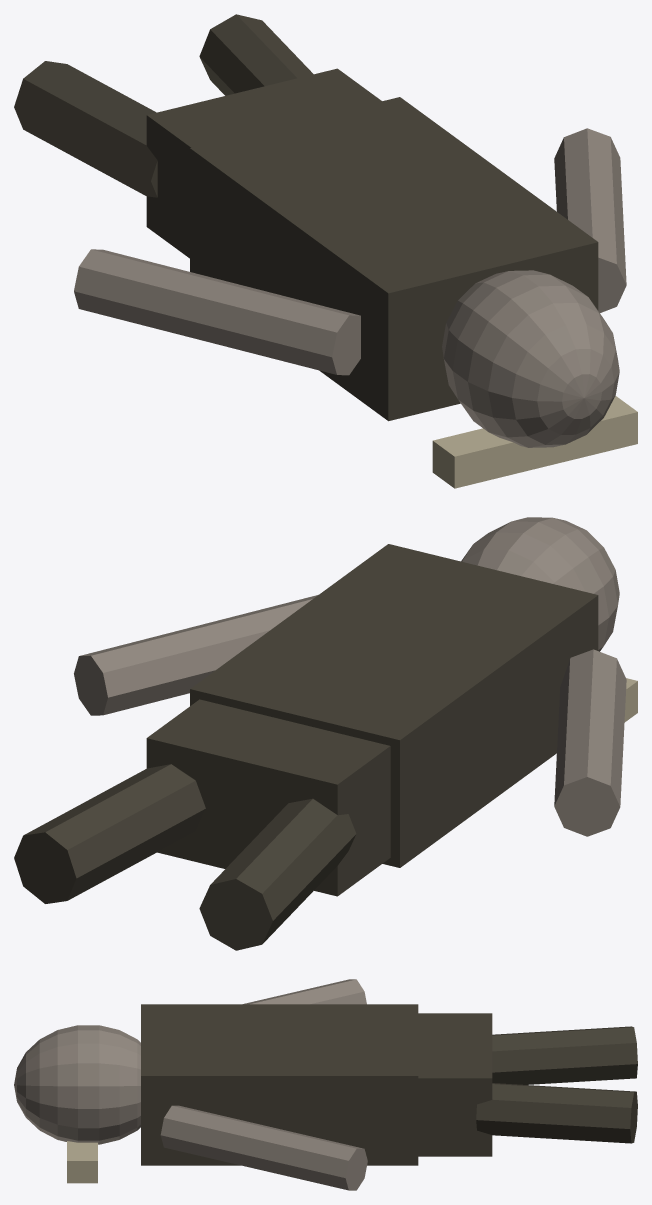
File: enemy_blind.obj
The picture shows the model from 3 angles, top to bottom: view 1: azimuth 30°, elevation 25°; view 2: azimuth 150°, elevation 25°; view 3: azimuth 270°, elevation 25°; orthographic projection. The views are drawn at different scales.
Size of the model in its own units: 1.43 by 0.436 by 2.02.
